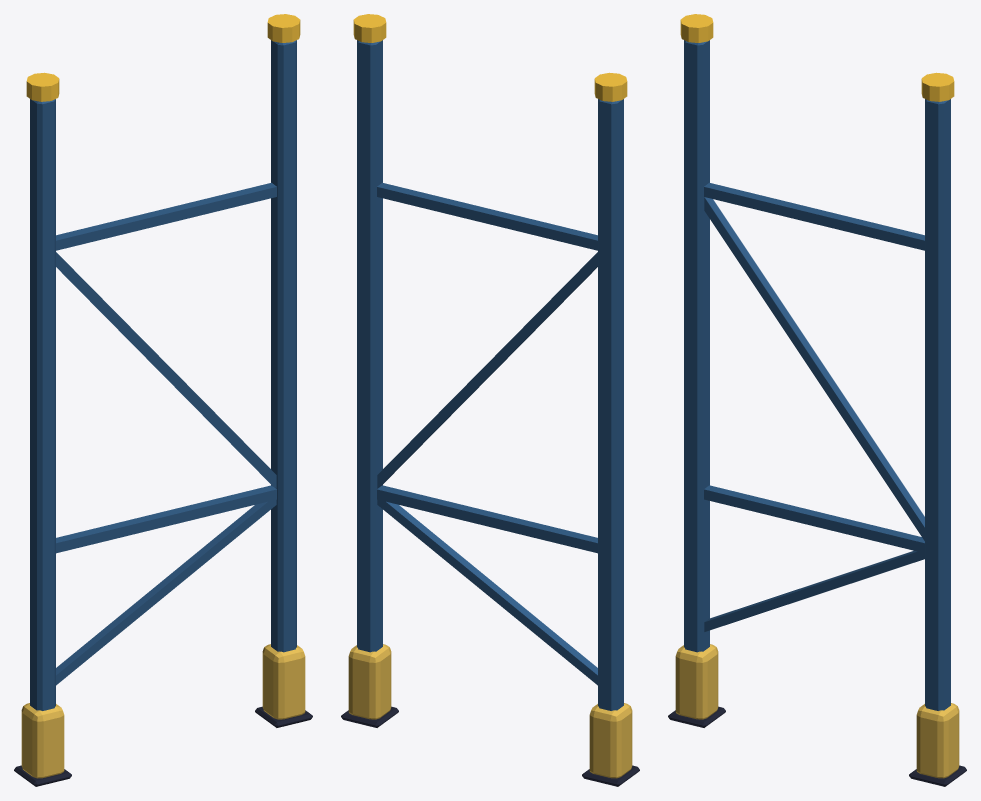
The model's file is sm_env_depot_shelf_frame.glb.
3 renders of one model, left to right at view 1: azimuth 30°, elevation 25°; view 2: azimuth 150°, elevation 25°; view 3: azimuth 330°, elevation 25°, orthographic.
Parts seen in each view (by area): view 1: Upright, Upright.001, Brace.002, Brace.001, Brace, Brace.003, CornerGuard, CornerGuard.001, UprightCap, UprightCap.001; view 2: Upright, Upright.001, Brace.002, Brace.001, Brace, Brace.003, CornerGuard, CornerGuard.001, UprightCap, UprightCap.001; view 3: Upright.001, Upright, Brace.003, Brace.001, Brace, CornerGuard, CornerGuard.001, Brace.002, UprightCap.001, UprightCap.
Boxes of the visible parts, left/top/right/bottom form: Upright: left=30, top=99, right=55, bottom=710; Upright.001: left=271, top=40, right=296, bottom=652; Brace.002: left=56, top=499, right=276, bottom=685; Brace.001: left=56, top=182, right=276, bottom=250; Brace: left=56, top=485, right=276, bottom=553; Brace.003: left=56, top=252, right=276, bottom=488; CornerGuard: left=21, top=703, right=64, bottom=778; CornerGuard.001: left=262, top=644, right=305, bottom=719; UprightCap: left=26, top=72, right=59, bottom=101; UprightCap.001: left=267, top=14, right=300, bottom=42; Upright: left=598, top=99, right=623, bottom=710; Upright.001: left=357, top=40, right=382, bottom=652; Brace.002: left=377, top=499, right=597, bottom=685; Brace.001: left=377, top=182, right=597, bottom=250; Brace: left=377, top=485, right=597, bottom=553; Brace.003: left=377, top=252, right=597, bottom=488; CornerGuard: left=589, top=703, right=632, bottom=778; CornerGuard.001: left=348, top=644, right=391, bottom=719; UprightCap: left=594, top=72, right=627, bottom=101; UprightCap.001: left=353, top=14, right=386, bottom=42; Upright.001: left=925, top=99, right=950, bottom=710; Upright: left=684, top=40, right=709, bottom=652; Brace.003: left=704, top=197, right=924, bottom=540; Brace.001: left=704, top=182, right=924, bottom=250; Brace: left=704, top=485, right=924, bottom=553; CornerGuard: left=675, top=644, right=718, bottom=719; CornerGuard.001: left=916, top=703, right=959, bottom=778; Brace.002: left=704, top=551, right=924, bottom=631; UprightCap.001: left=921, top=72, right=954, bottom=101; UprightCap: left=680, top=14, right=713, bottom=42.
Size of the model in its own units: 1.16 by 2.76 by 0.16.
